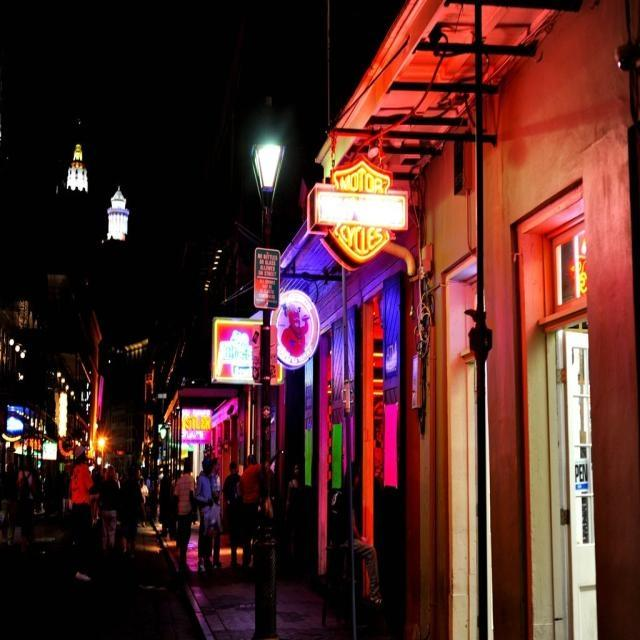door: (507, 173, 598, 640), (442, 242, 492, 640)
